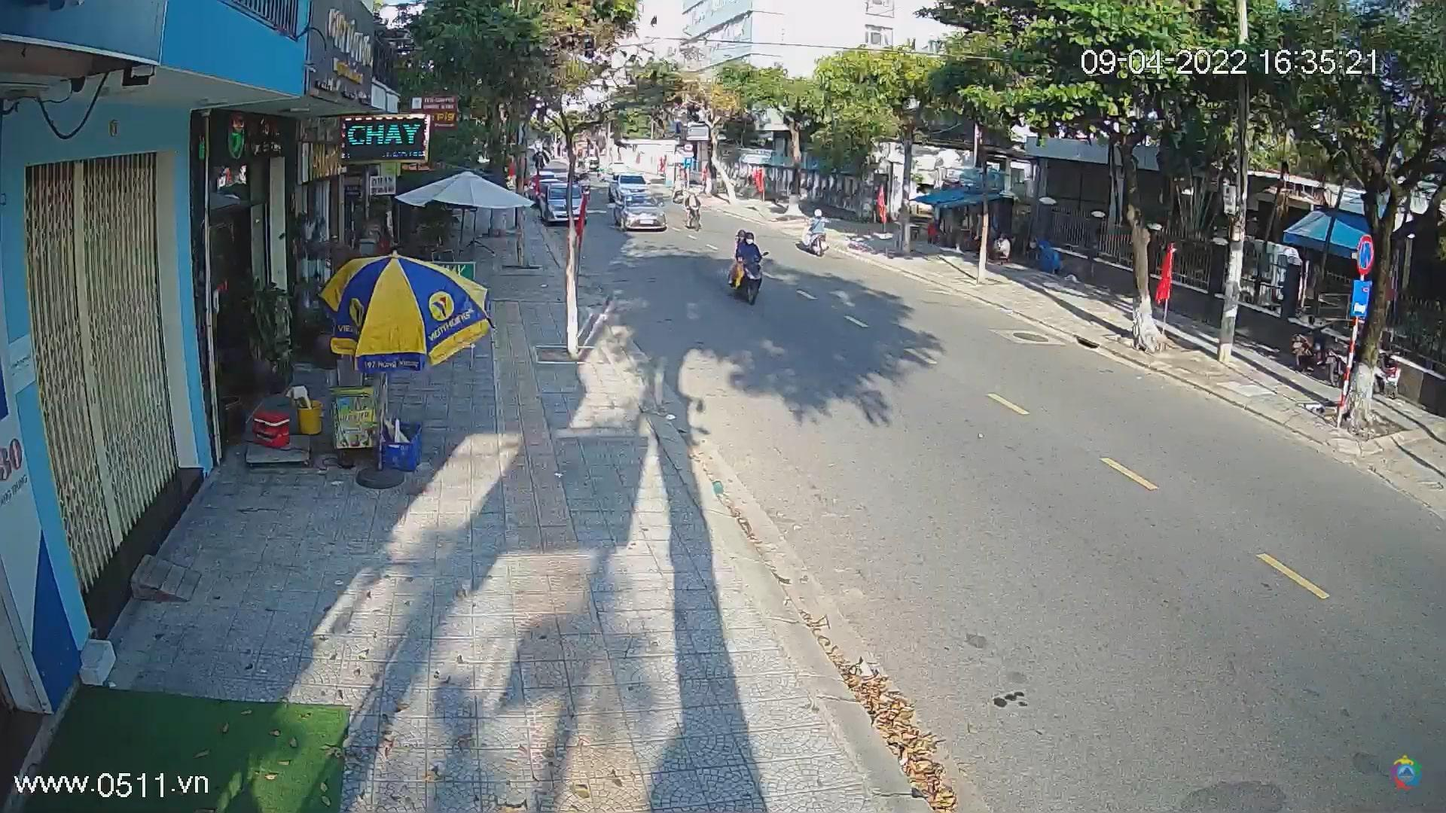car: (608, 173, 650, 201), (618, 207, 664, 231)
motorbike: (729, 249, 767, 309)
